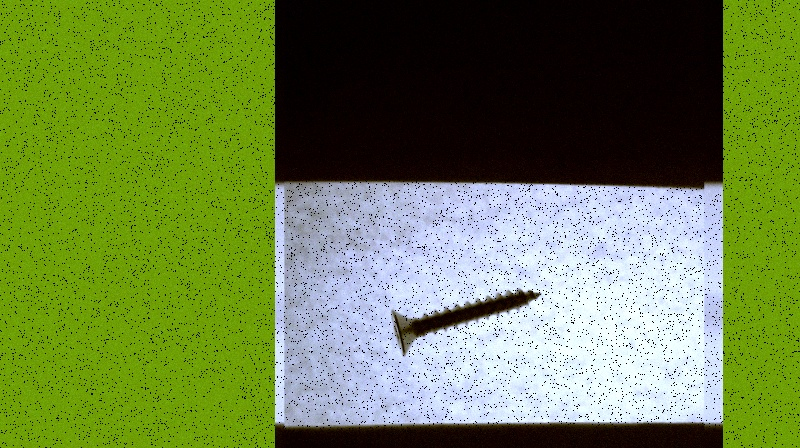S001: (388, 285, 543, 360)
